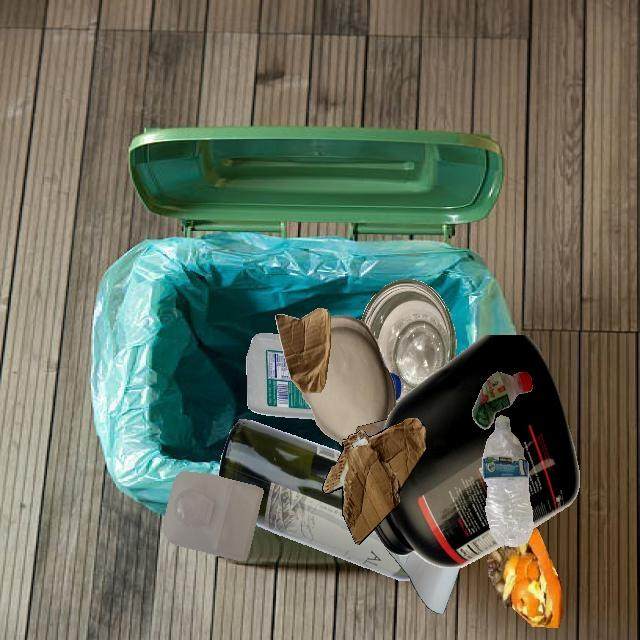biowaste: (487, 528, 562, 627)
cardboard: (323, 417, 426, 544), (275, 308, 330, 395)
glass: (219, 419, 411, 580), (361, 279, 456, 406)
paper: (302, 315, 396, 447), (387, 549, 460, 614)
plastic: (374, 335, 579, 568), (163, 471, 264, 561), (482, 415, 533, 547), (246, 333, 315, 419), (472, 371, 533, 429)
